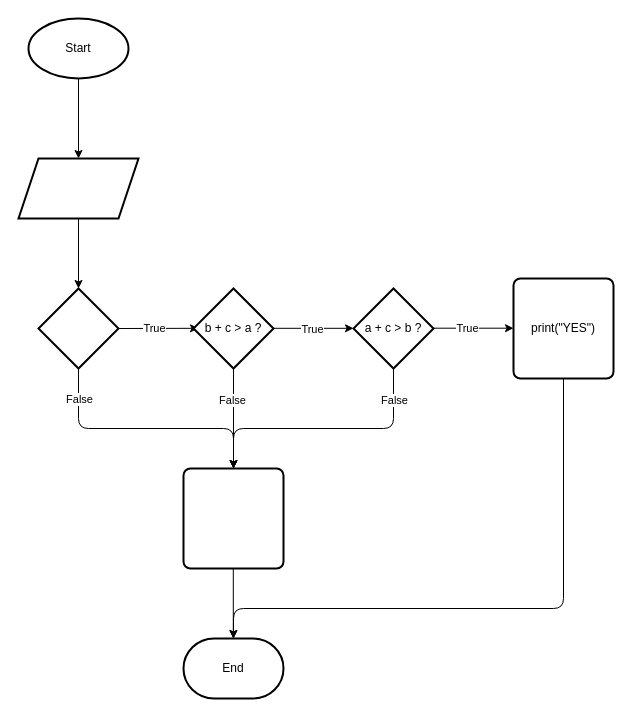
Image size: 631x716. Some labels were removed from this diagram. Each missing label, with the box of its shape:
a + b > c ?: (37, 287, 119, 369)
INPUT a, b, c: (17, 157, 139, 219)
print("NO"): (182, 467, 284, 569)
